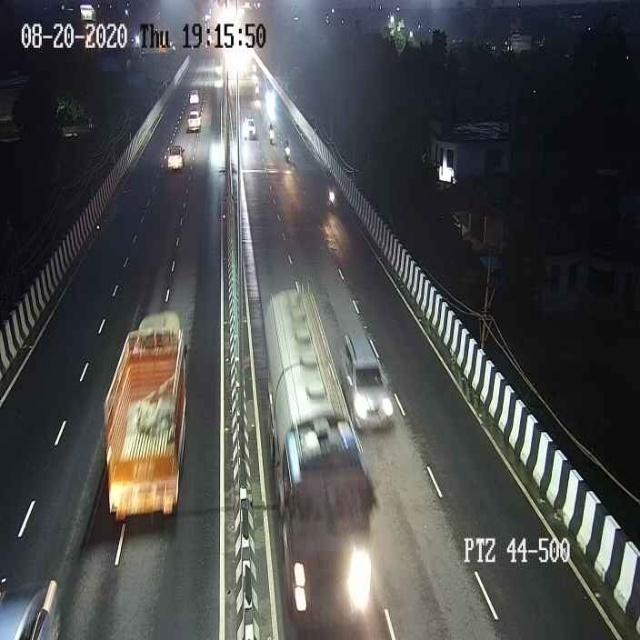car: (344, 332, 391, 427), (160, 139, 187, 177), (181, 95, 206, 135)
